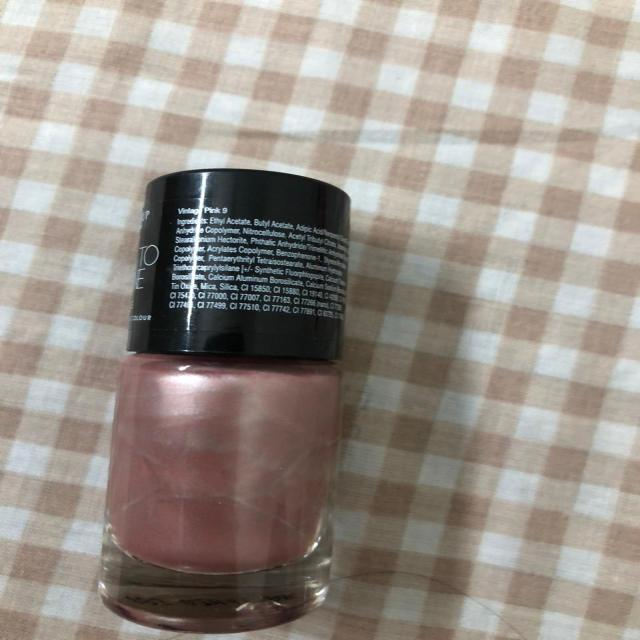nail polish: (90, 139, 378, 640)
